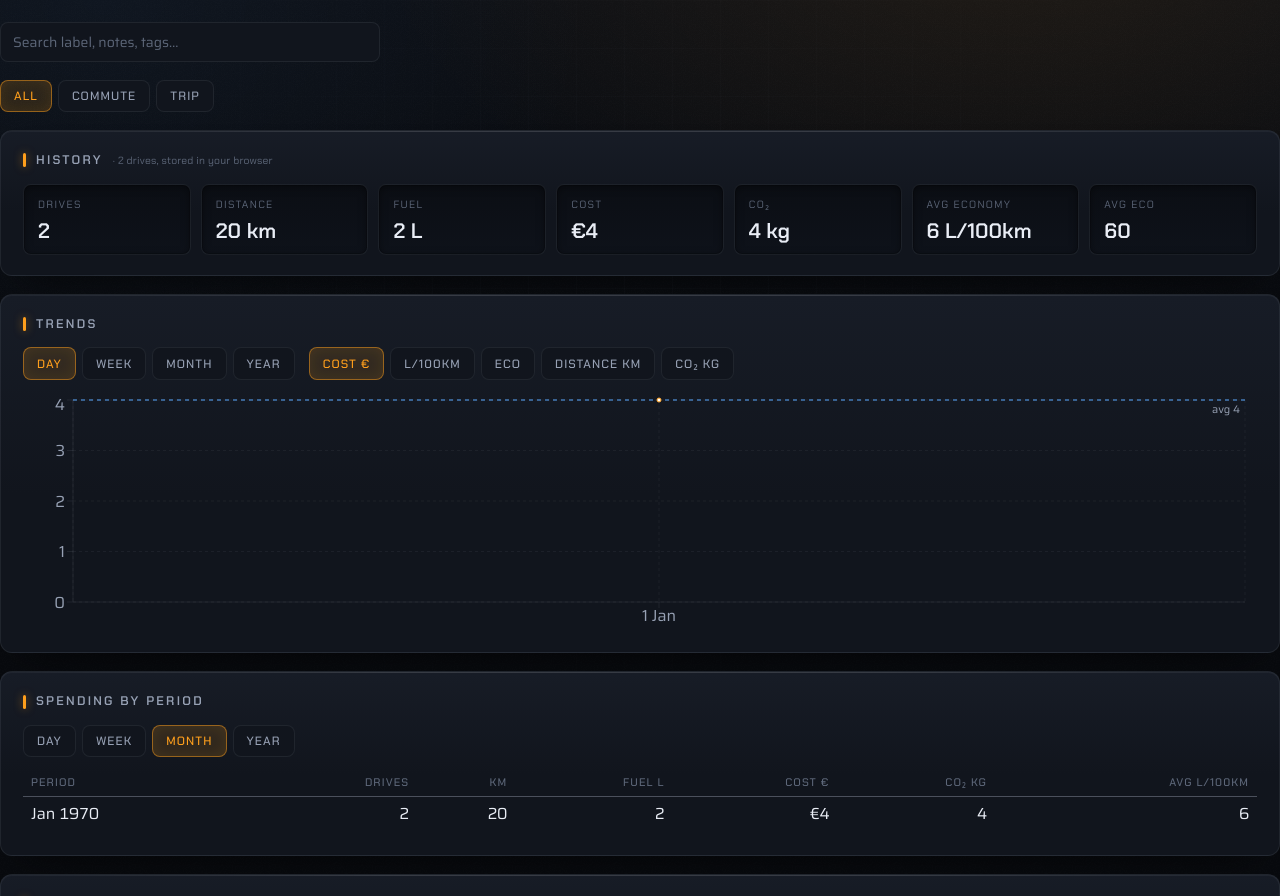
the search box narrows the Drives list across label, notes and tags
In the search field named "search drives": point(190, 42) [0,22,380,62], type "rainy"
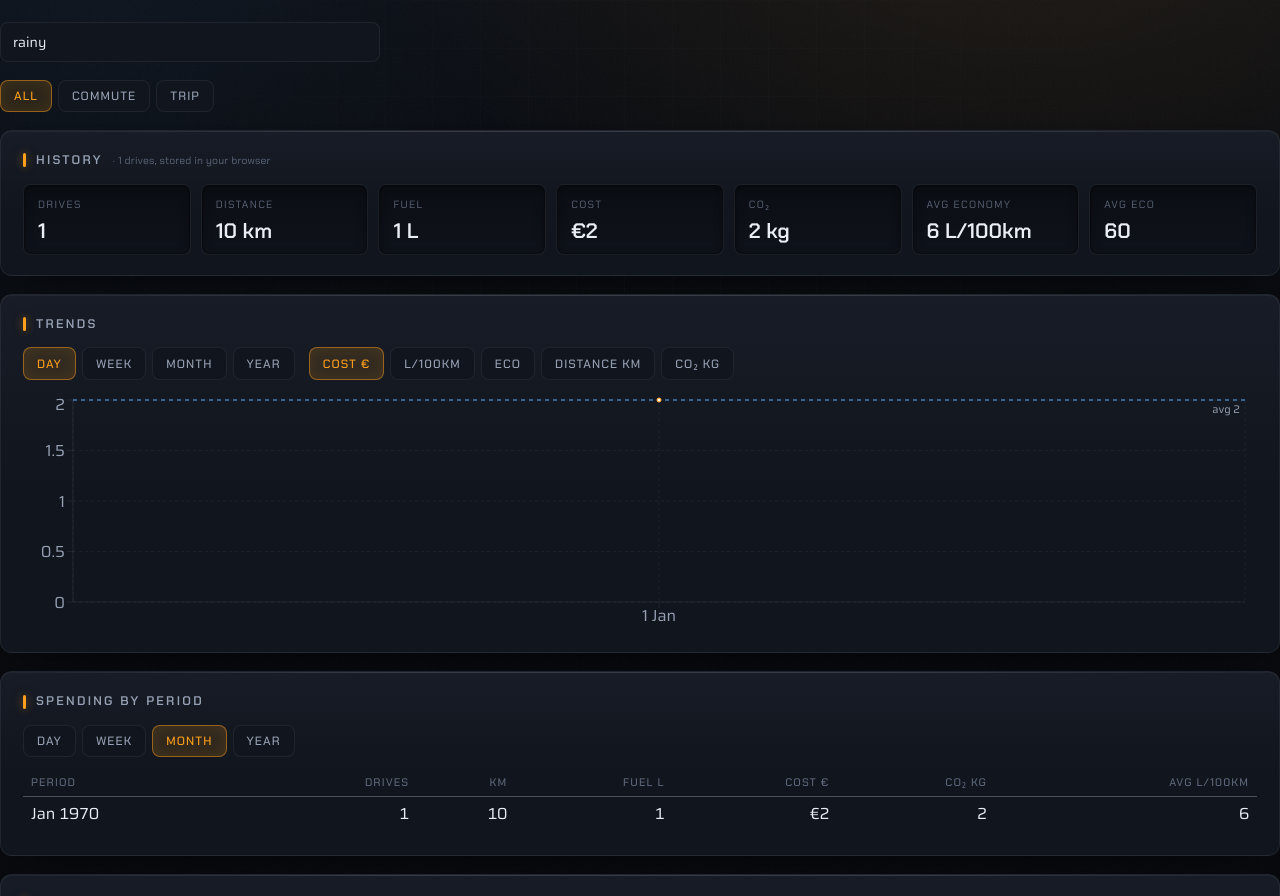
Expected: the text "beta" is not shown
Clear the search field named "search drives": point(190, 42) [0,22,380,62]
(page scrolled)
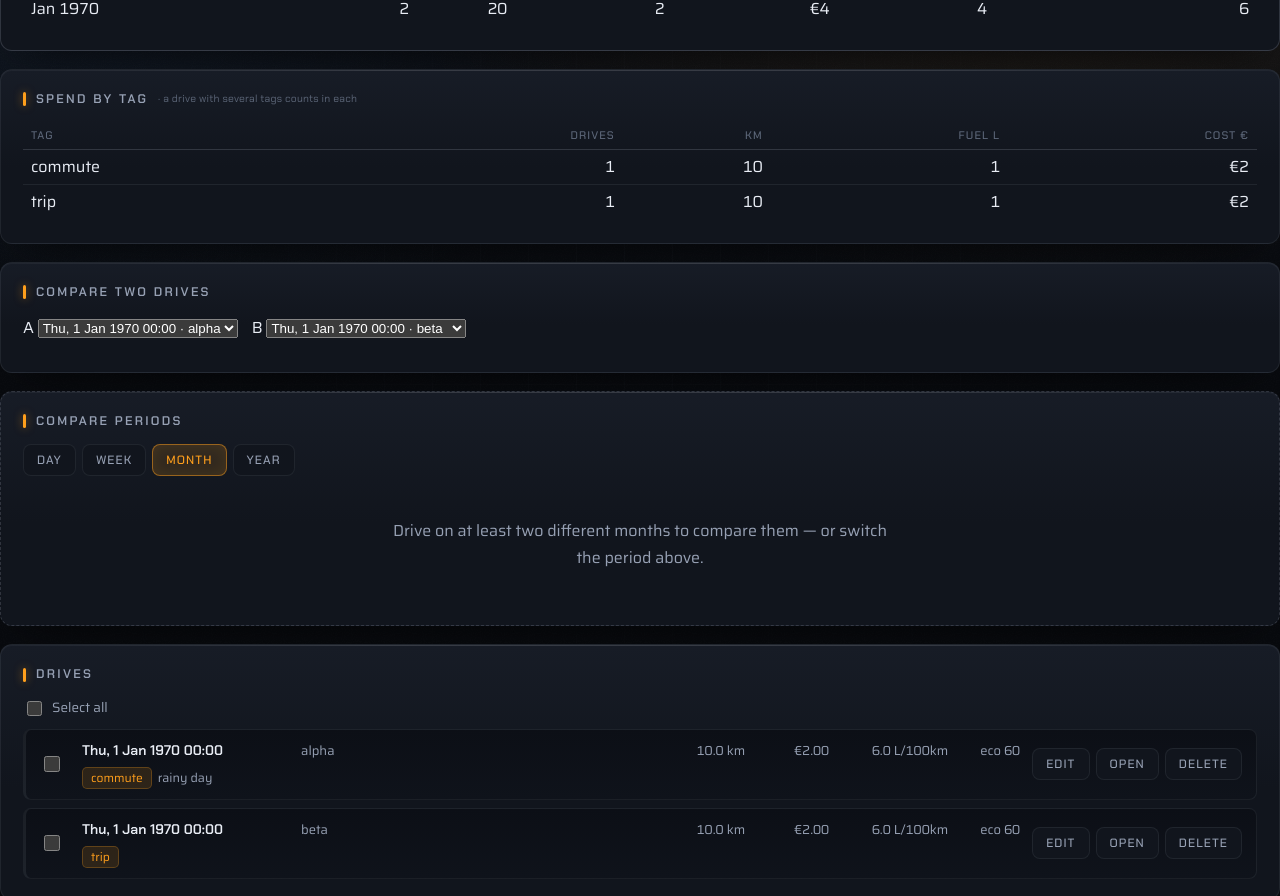
Now the text "beta" is shown, box [301,819,328,840]
